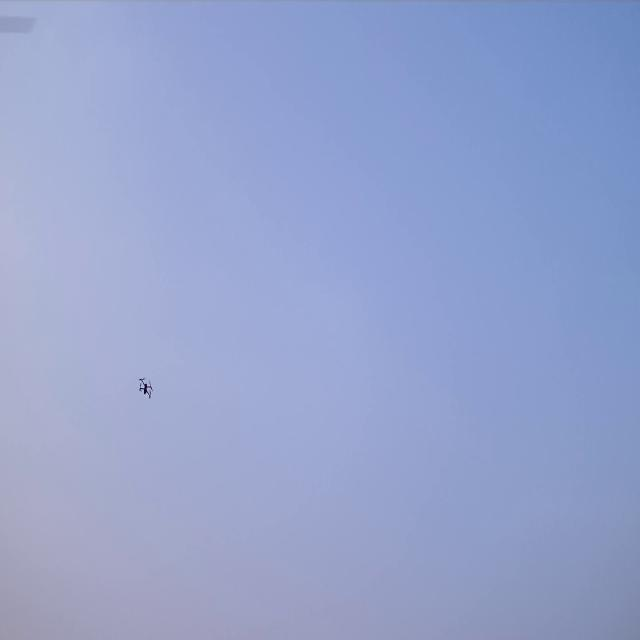UAV: (140, 378, 152, 398)
